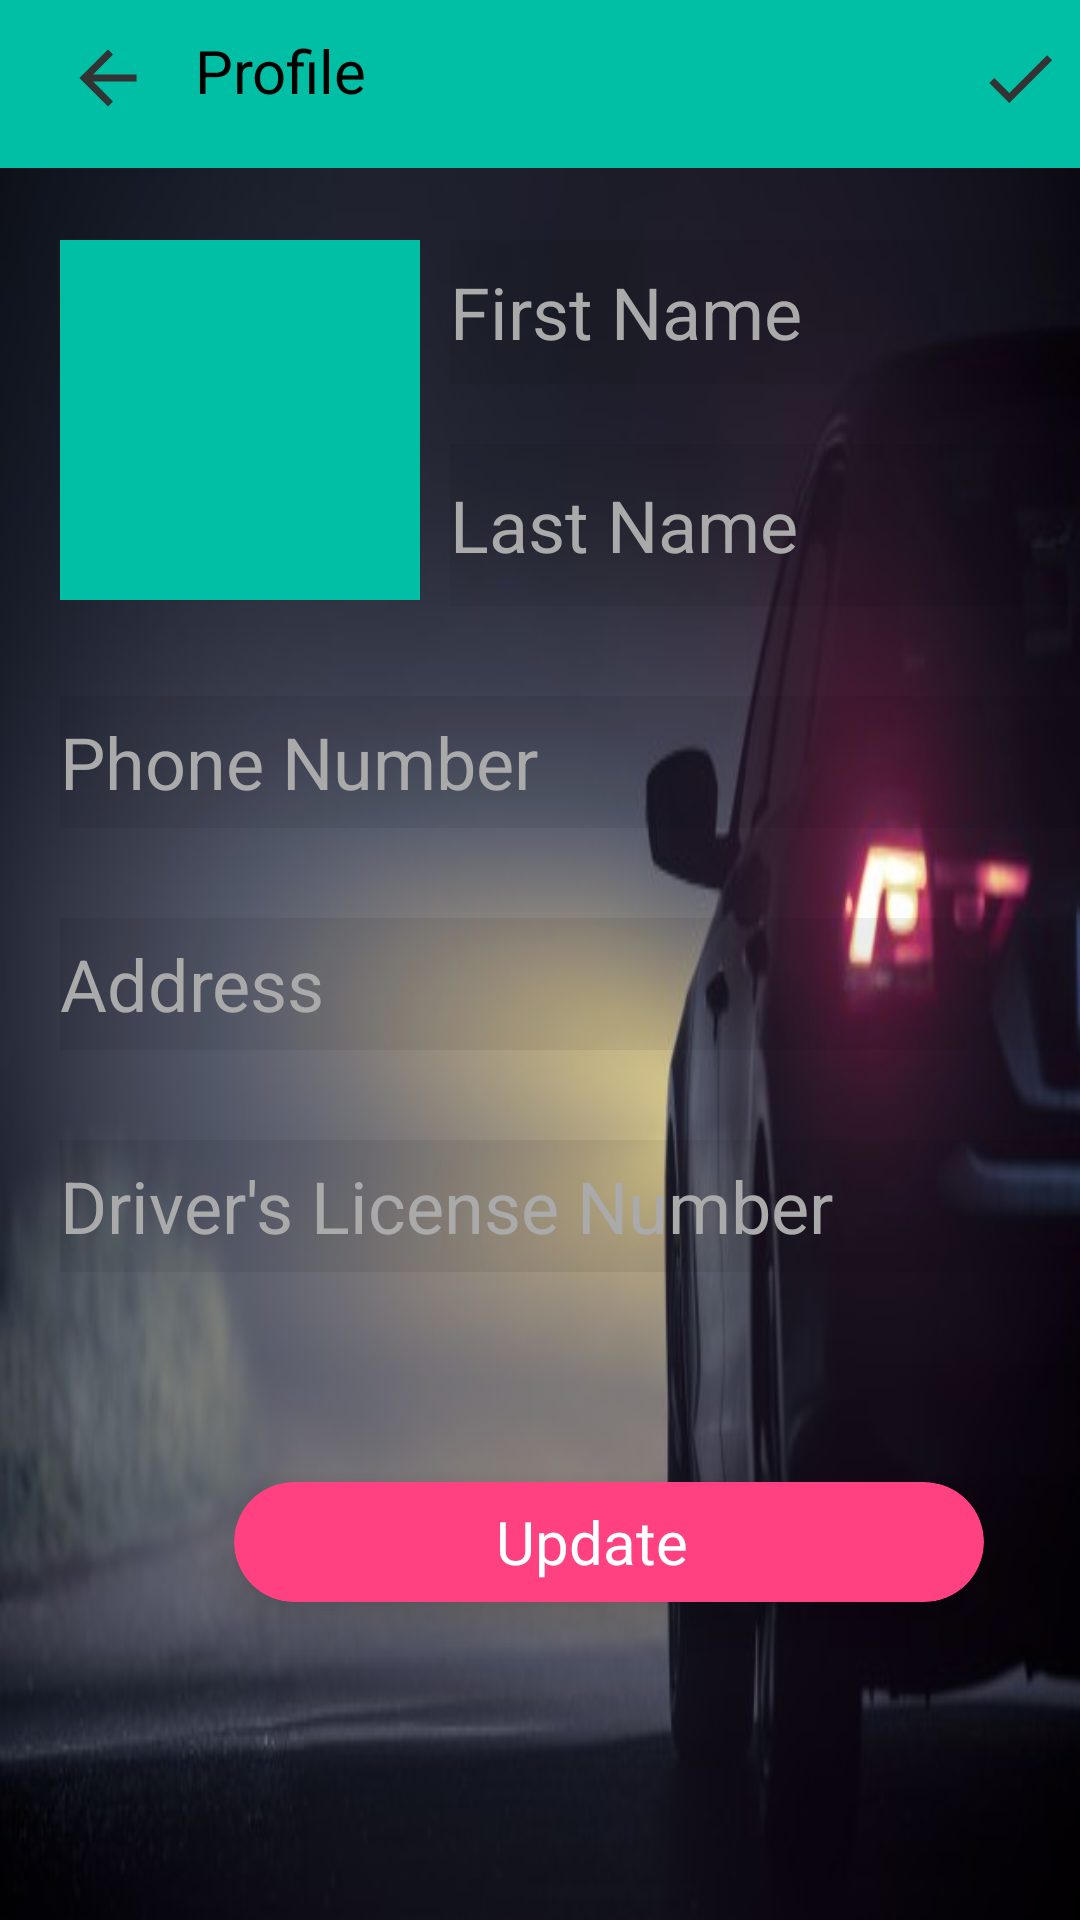

Where to tap for icons on this 1080*1920 app screen, as [x,y]:
done: [1020,79]
go back: [108,78]
